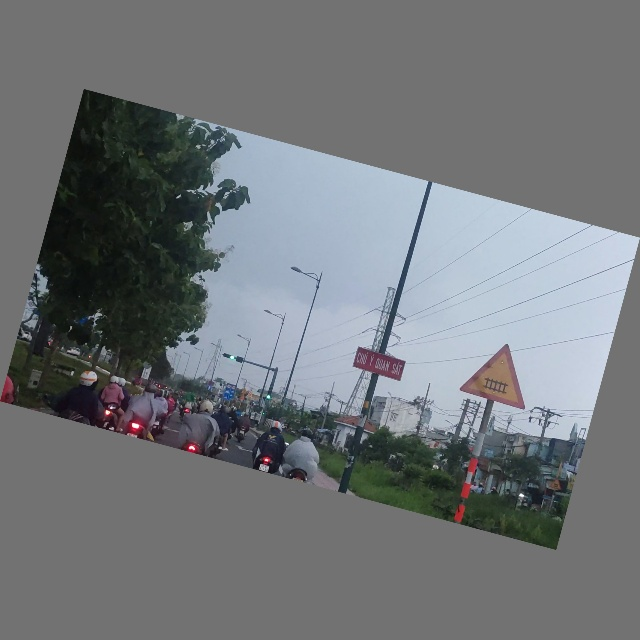W.210: (458, 335, 540, 412)
